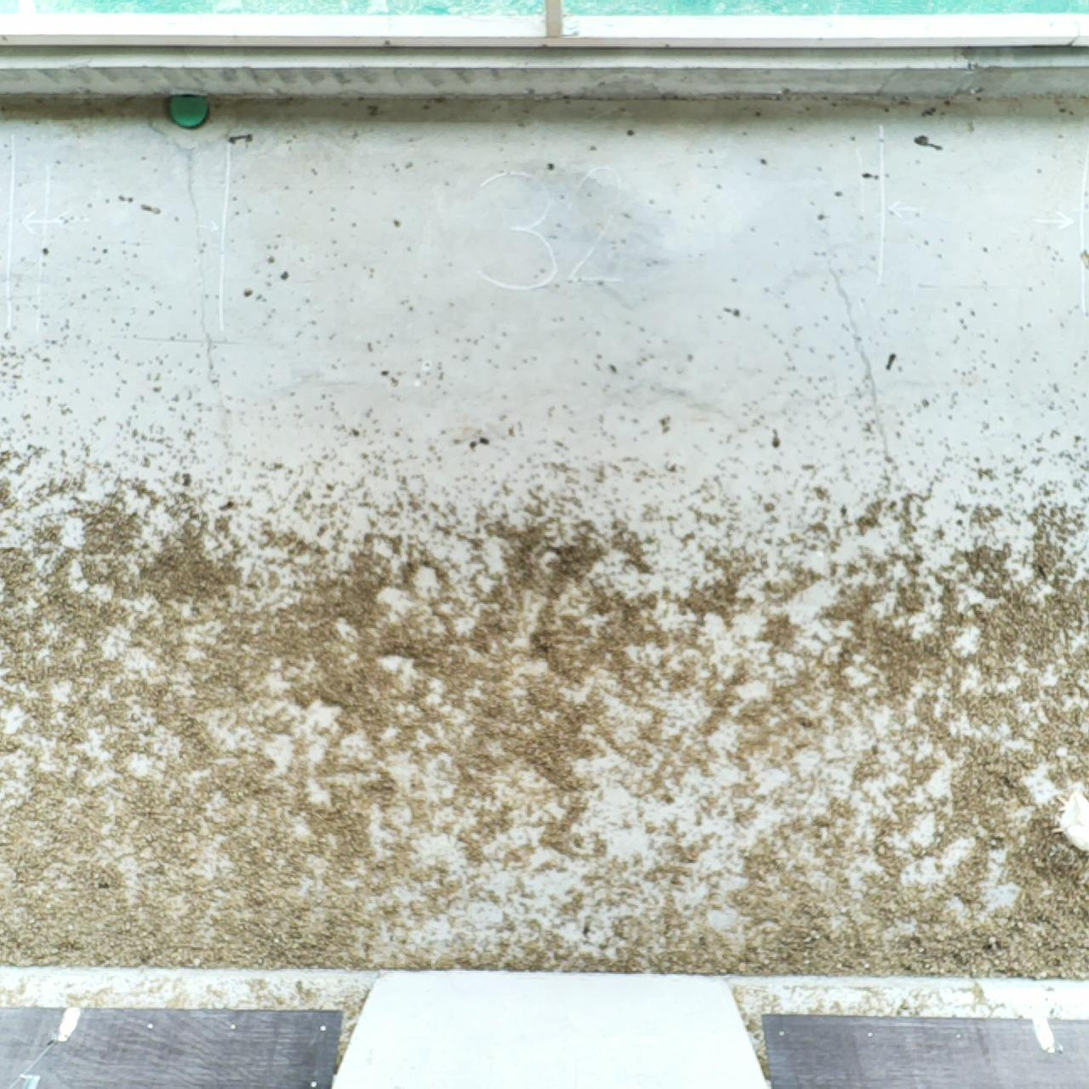chicken: (1048, 782, 1089, 856)
